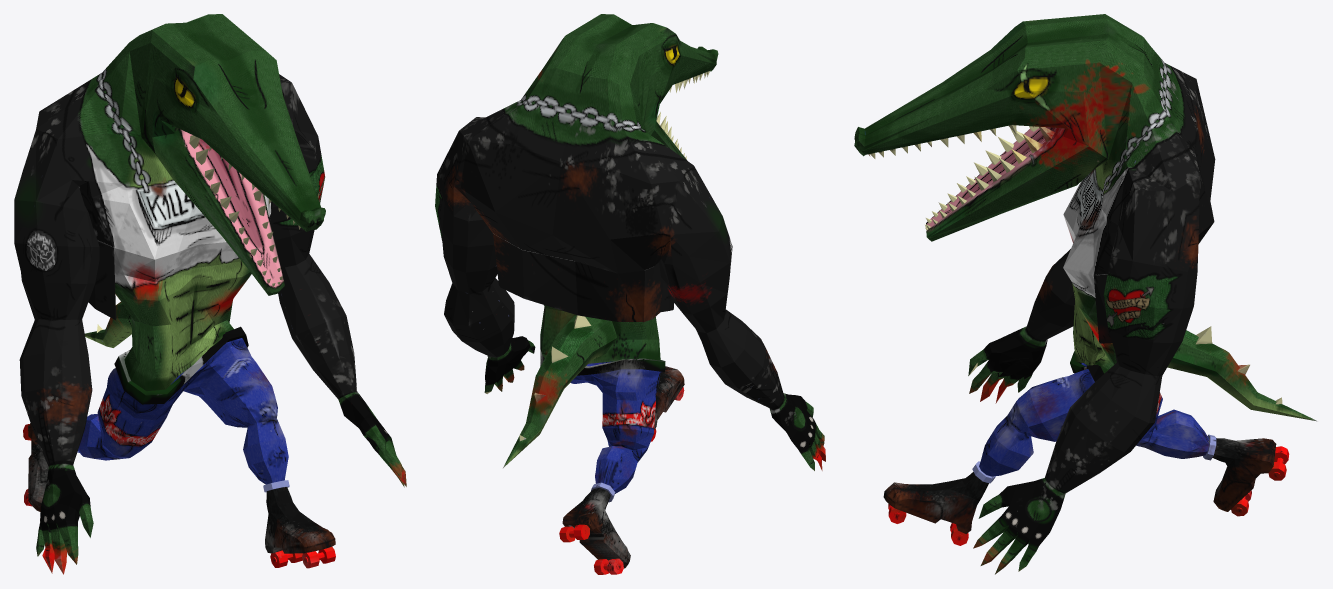
Rendered from cocodrilaBonesSelect_000002.obj.
3 views of the same model, side by side, from view 1: azimuth 30°, elevation 25°; view 2: azimuth 150°, elevation 25°; view 3: azimuth 270°, elevation 25° (orthographic). The views are drawn at different scales.
Visible parts, largest first — view 1: Crocodile.002_Cylinder.002; view 2: Crocodile.002_Cylinder.002; view 3: Crocodile.002_Cylinder.002.
Boxes of the visible parts, <box> form: Crocodile.002_Cylinder.002: <box>14,14,406,574</box>; Crocodile.002_Cylinder.002: <box>435,14,825,574</box>; Crocodile.002_Cylinder.002: <box>854,14,1317,574</box>.
Bounding box in the file's own units: 4.41 × 6.09 × 4.92.
